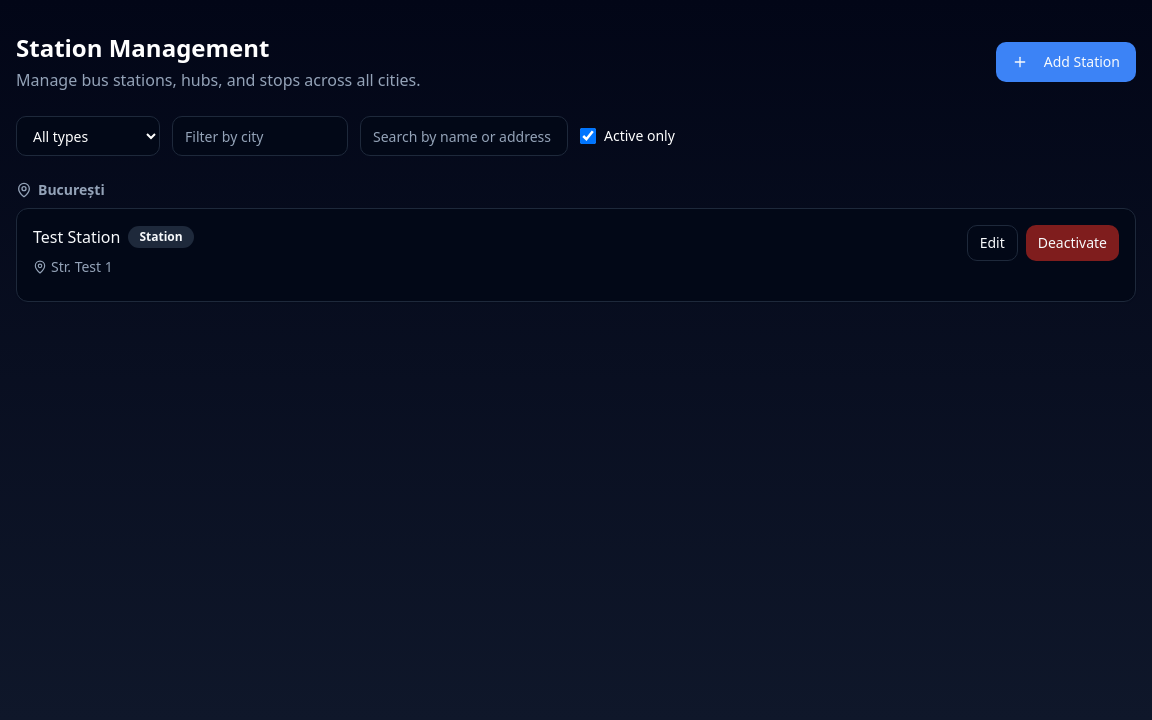
it: AdminStationsPage › actions › opens deactivate confirmation when deactivate is clicked
Click the button "Deactivate": coordinates (1072, 243) [1026,225,1119,261]
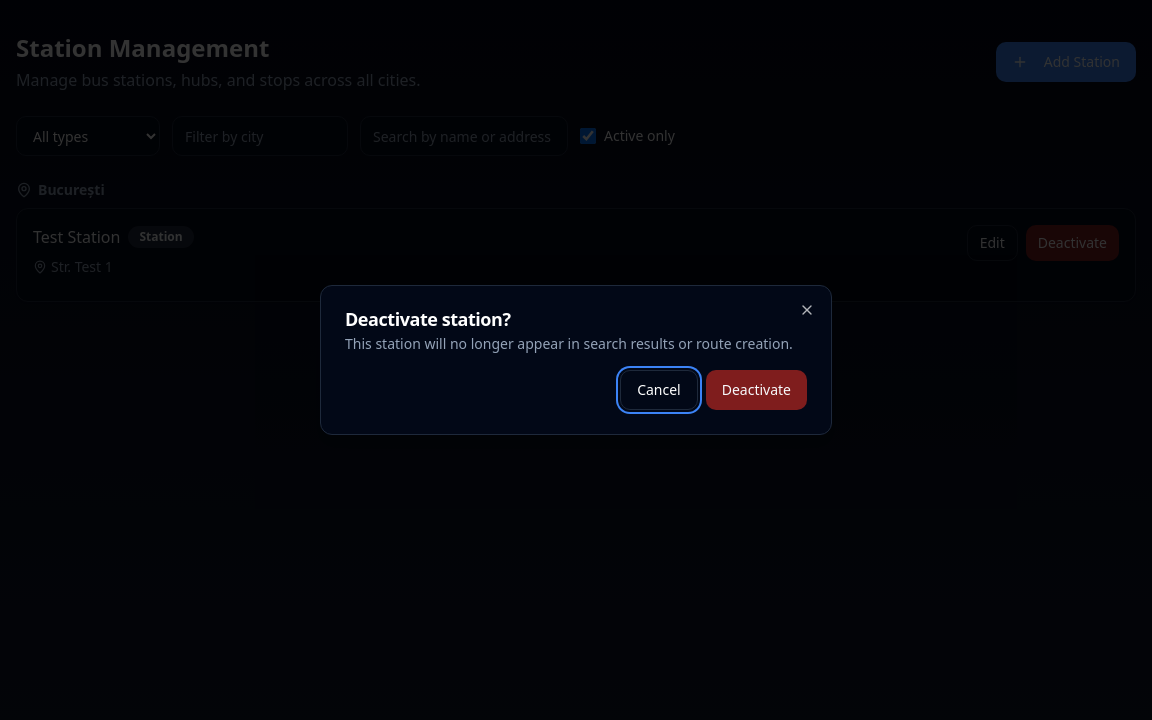
Check: the heading "Deactivate station?" is shown, box [345,307,511,331]
